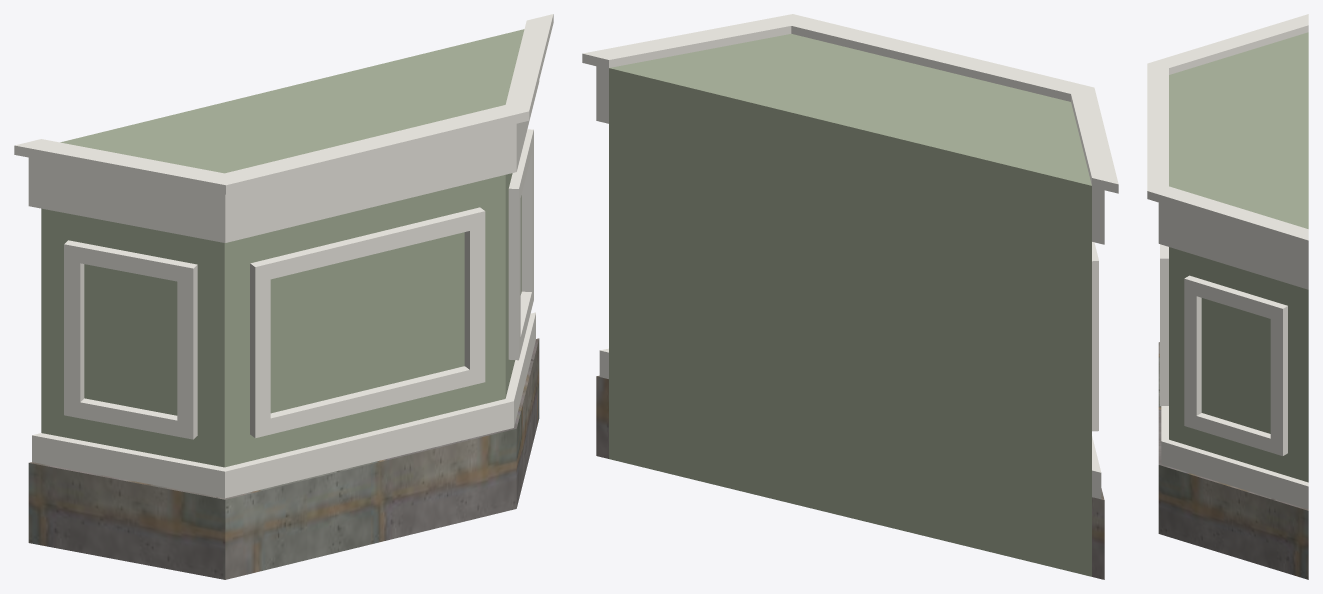
File: bay_base_b.glb
3 views of the same model, side by side, from view 1: azimuth 30°, elevation 25°; view 2: azimuth 150°, elevation 25°; view 3: azimuth 270°, elevation 25° (orthographic). The views are drawn at different scales.
Visible parts, largest first — view 1: bay_base_b_acc_b, bay_base_b_trim, bay_base_b_plinth; view 2: bay_base_b_acc_b, bay_base_b_trim, bay_base_b_plinth; view 3: bay_base_b_acc_b, bay_base_b_trim, bay_base_b_plinth.
Part boxes in pixels (bbox=[...]): bay_base_b_acc_b: bbox=[41, 29, 524, 467]; bay_base_b_trim: bbox=[14, 14, 553, 498]; bay_base_b_plinth: bbox=[28, 338, 539, 579]; bay_base_b_acc_b: bbox=[609, 34, 1091, 576]; bay_base_b_trim: bbox=[582, 14, 1118, 499]; bay_base_b_plinth: bbox=[596, 375, 1104, 579]; bay_base_b_acc_b: bbox=[1169, 32, 1308, 482]; bay_base_b_trim: bbox=[1147, 14, 1308, 509]; bay_base_b_plinth: bbox=[1158, 342, 1308, 579].
Bounding box in the file's own units: 2.11 × 1.5 × 0.635.
3 materials, 1 textured.
